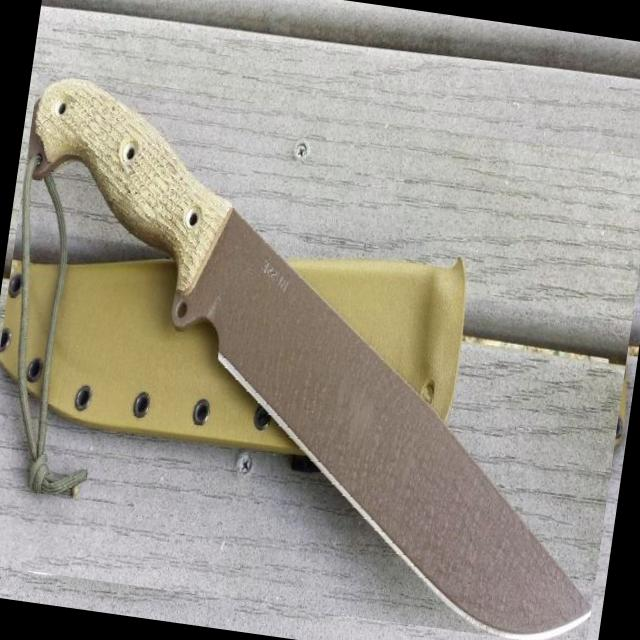Knife: (31, 80, 591, 640)
